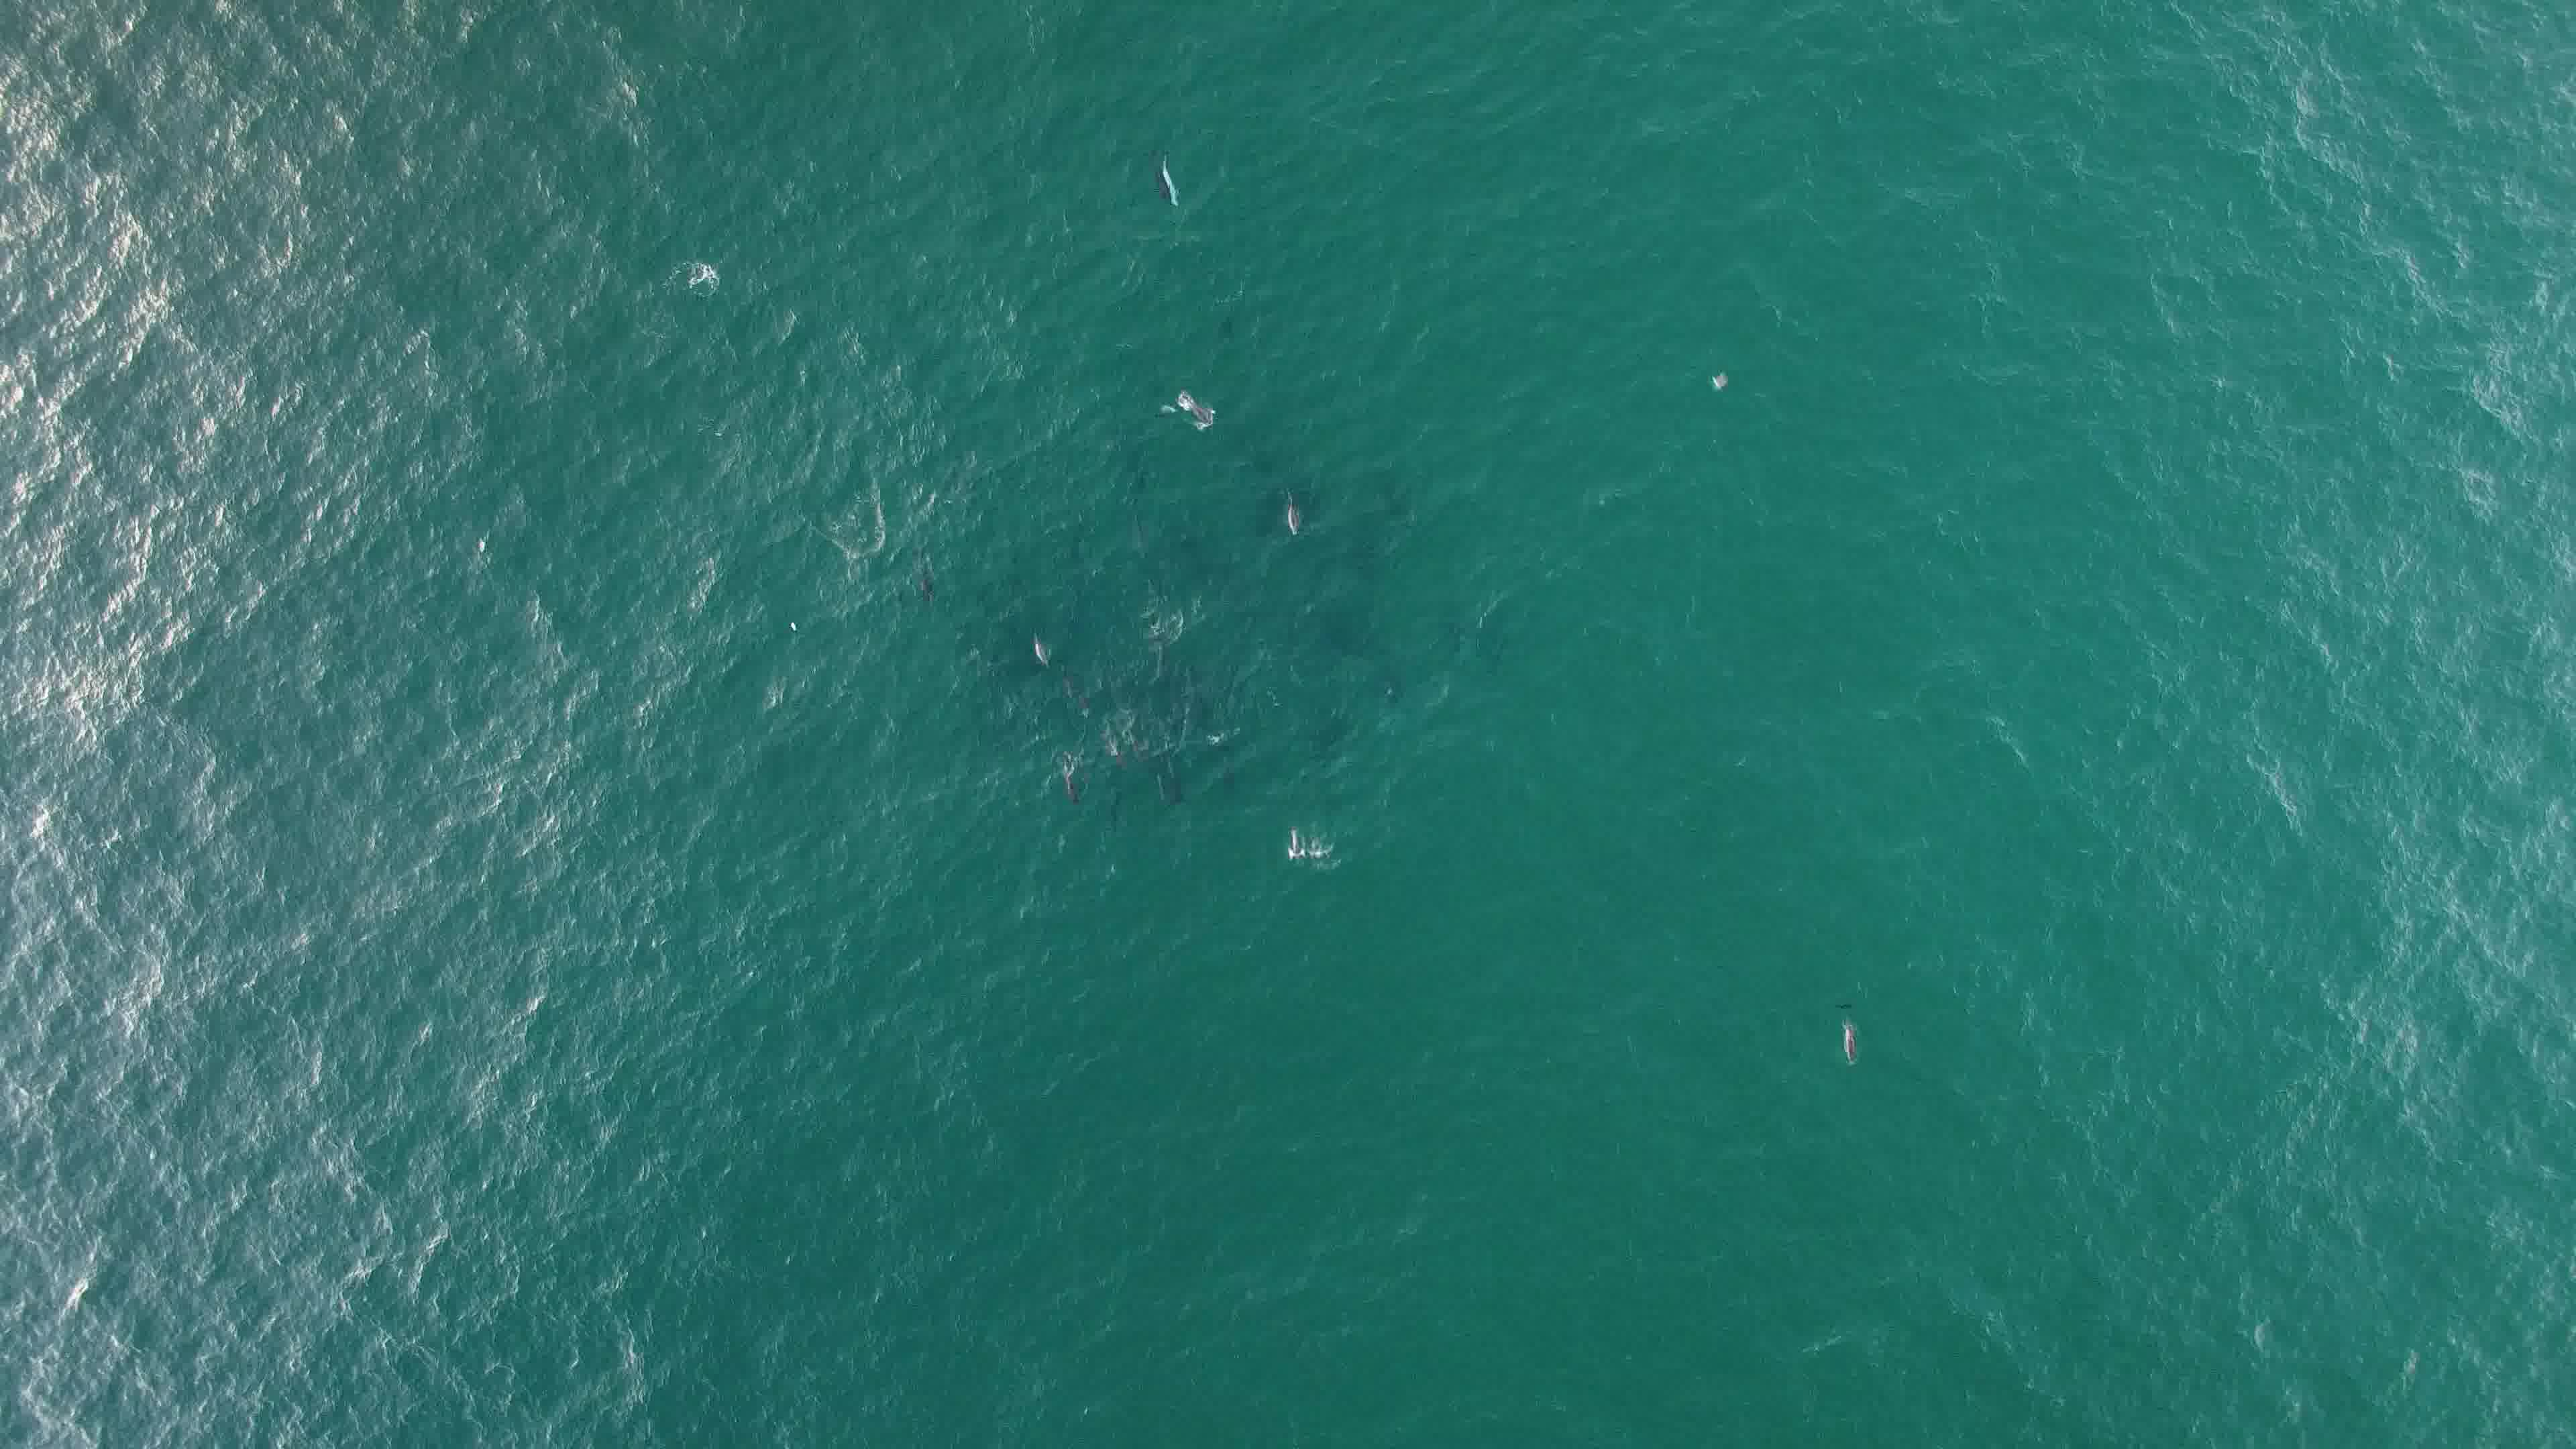dolphin: (1136, 143, 1192, 214), (1276, 810, 1336, 874), (1162, 384, 1226, 439), (1267, 472, 1309, 538), (1053, 745, 1092, 816), (1097, 706, 1136, 766), (1702, 356, 1737, 409)
